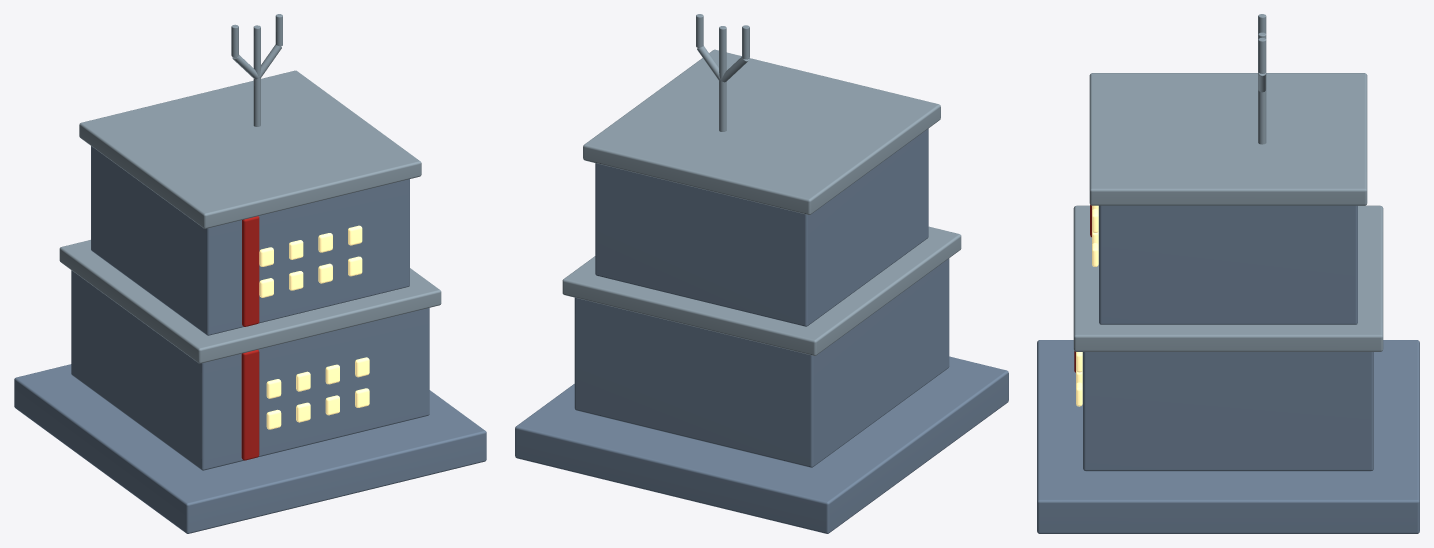
3 views of the same model, side by side, from view 1: azimuth 30°, elevation 25°; view 2: azimuth 150°, elevation 25°; view 3: azimuth 270°, elevation 25° (orthographic). The views are drawn at different scales.
Visible parts, largest first — view 1: Modular block storey, Block roof ledge.001, Modular block storey.001, Foundation slab, Block roof ledge, Vertical block colour strip, Vertical block colour strip.001, Aerial stem; view 2: Modular block storey, Modular block storey.001, Block roof ledge.001, Foundation slab, Block roof ledge, Aerial stem; view 3: Block roof ledge.001, Foundation slab, Modular block storey, Modular block storey.001, Block roof ledge, Aerial stem.
Part boxes in pixels (bbox=[...]): Modular block storey: bbox=[71, 270, 429, 470]; Block roof ledge.001: bbox=[79, 70, 421, 228]; Modular block storey.001: bbox=[91, 146, 409, 335]; Foundation slab: bbox=[14, 364, 486, 533]; Block roof ledge: bbox=[59, 240, 441, 363]; Vertical block colour strip: bbox=[241, 349, 259, 460]; Vertical block colour strip.001: bbox=[242, 216, 259, 326]; Aerial stem: bbox=[253, 25, 260, 126]; Modular block storey: bbox=[574, 258, 949, 467]; Modular block storey.001: bbox=[595, 128, 928, 326]; Block roof ledge.001: bbox=[583, 49, 940, 214]; Foundation slab: bbox=[515, 356, 1008, 533]; Block roof ledge: bbox=[562, 226, 961, 355]; Aerial stem: bbox=[719, 26, 726, 131]; Block roof ledge.001: bbox=[1089, 73, 1367, 205]; Foundation slab: bbox=[1037, 340, 1419, 533]; Modular block storey: bbox=[1083, 352, 1373, 471]; Modular block storey.001: bbox=[1099, 205, 1357, 324]; Block roof ledge: bbox=[1073, 205, 1383, 351]; Aerial stem: bbox=[1258, 32, 1266, 144].
Size of the model in its own units: 2.04 by 2.58 by 2.04.
